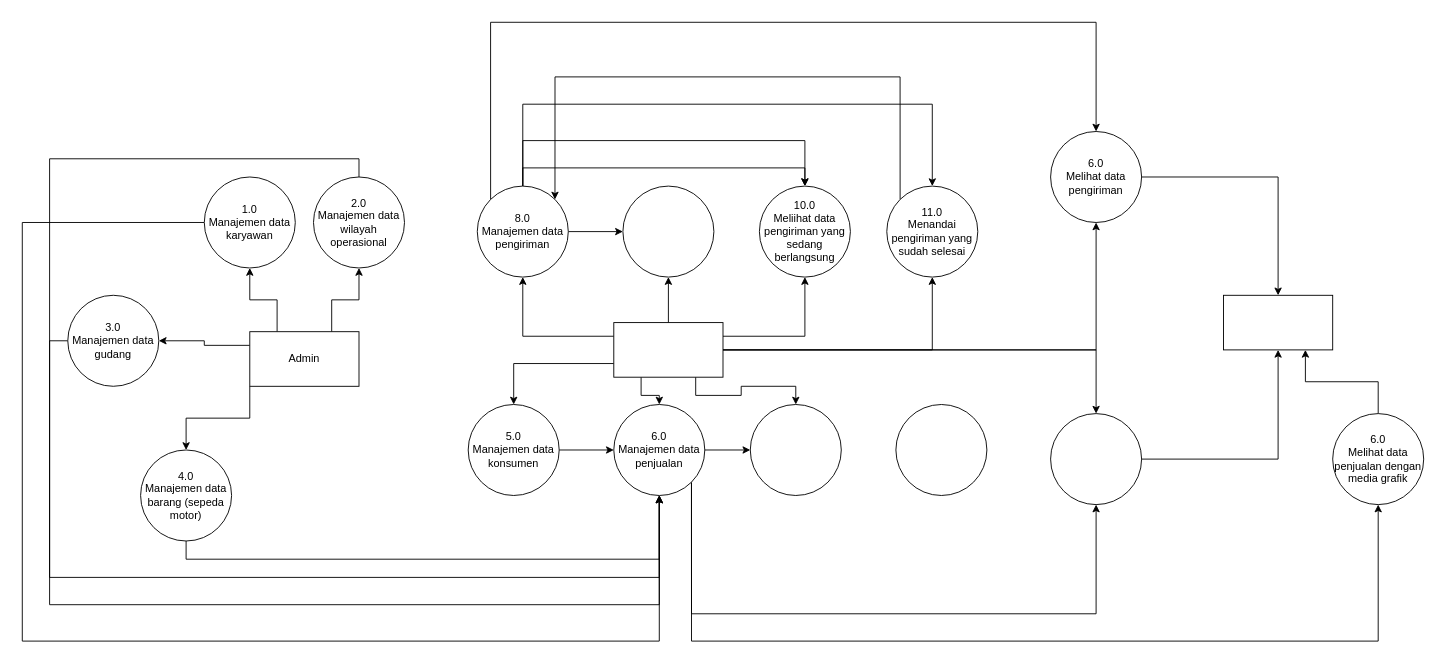
Some shapes in this 1440 by 664 pixel diagram are drawn without their labels. Here are the shapes that lost their labels. From the top down, the box of each, then its label:
(622, 185, 714, 277): 9.0 Unduh dan cetak surat jalan
(1223, 294, 1333, 350): Pemilik
(613, 322, 723, 377): Karyawan
(749, 404, 841, 495): 7.0 Unduh dan cetak faktur jual
(895, 404, 987, 495): 12.0 Manajemen pengurusan surat-surat kendaraan baru
(1050, 413, 1142, 505): 6.0 Melihat data penjualan
